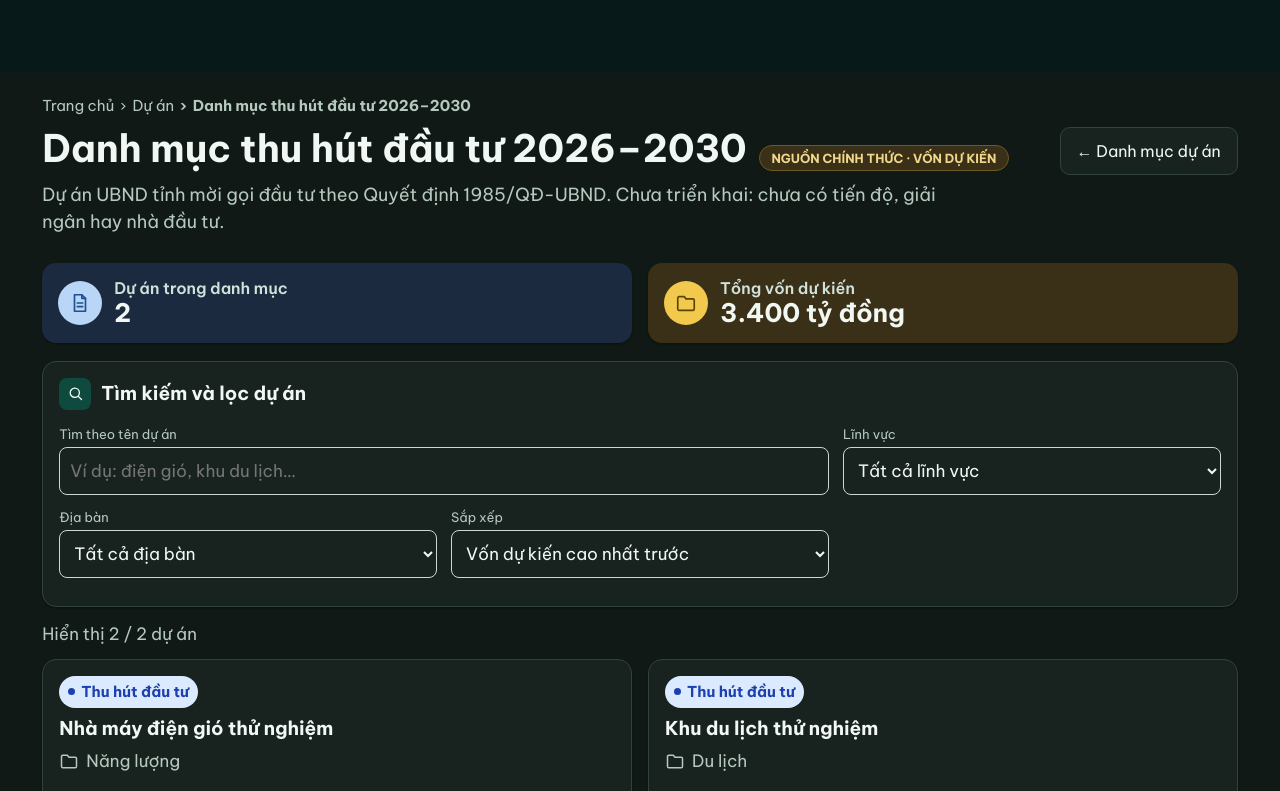
InvestmentCatalogView › tìm theo tên không dấu thu hẹp kết quả và báo số lượng
The width and height of the screenshot is (1280, 791).
Expected: the heading "Danh mục thu hút đầu tư 2026–2030" is shown, [42,127,746,171]
Type "dien gio" into the search field labelled "Tìm theo tên dự án" at (444, 471), box [59,447,829,495]
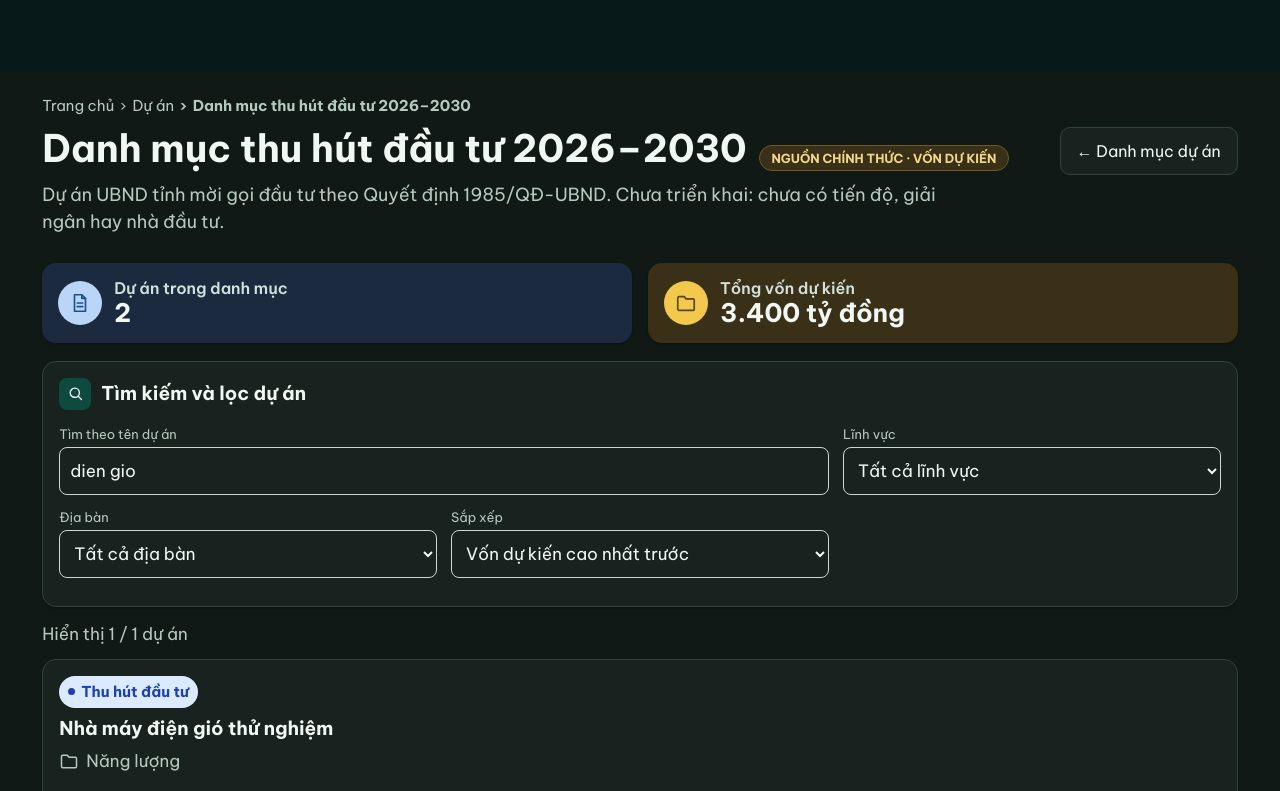
Now the text "Hiển thị 1 / 1 dự án" is shown, box [42,623,188,645]
Now the heading "Khu du lịch thử nghiệm" is gone
